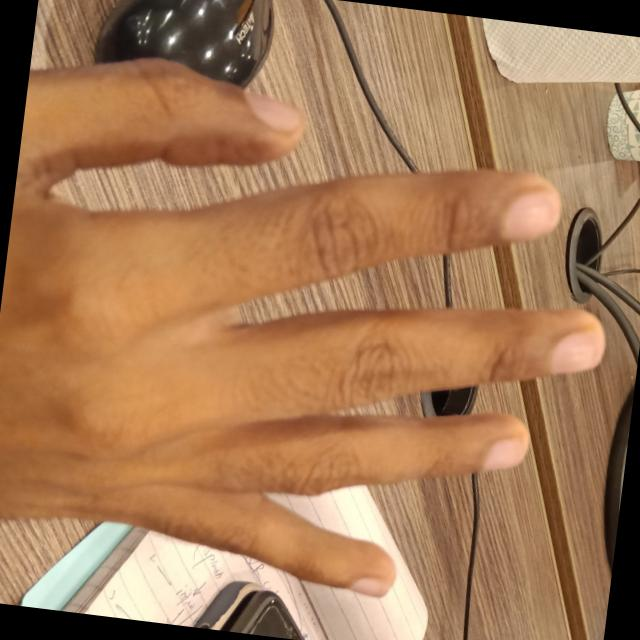Nail: (500, 192, 557, 241), (550, 329, 600, 374), (244, 92, 301, 131), (483, 437, 524, 470), (347, 576, 390, 596)
